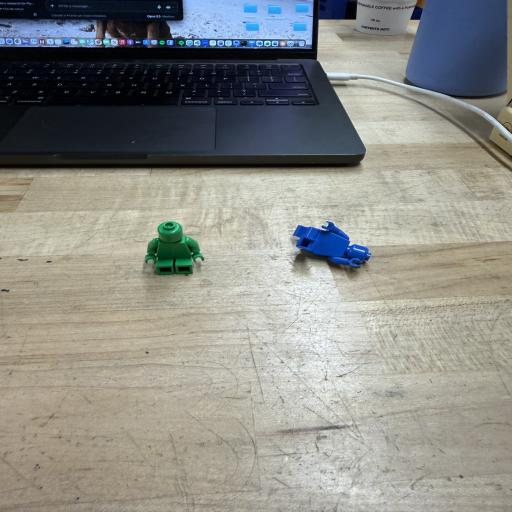blue-minifig: (294, 222, 371, 267)
green-minifig: (145, 222, 202, 274)
